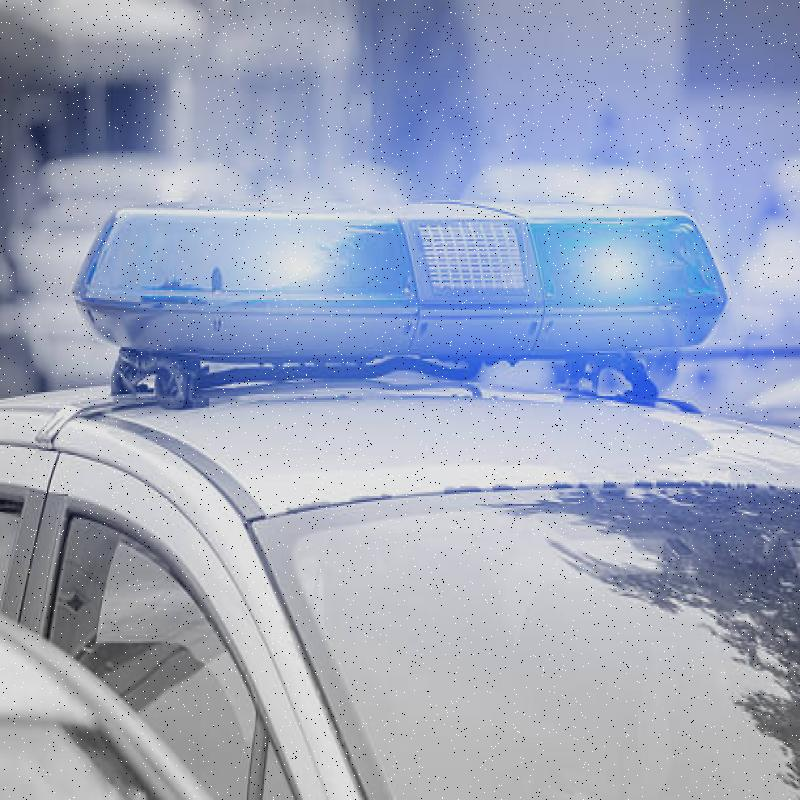AmbulanceSiren: (66, 189, 753, 420)
